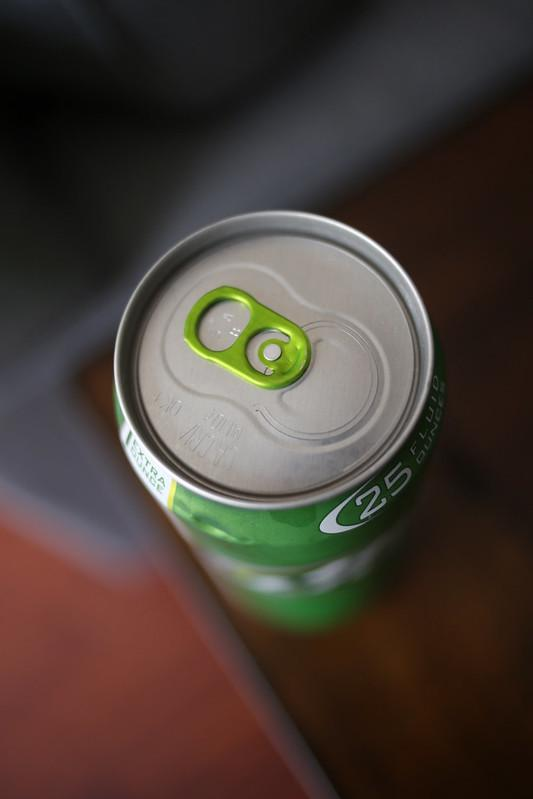metal: (114, 211, 447, 632)
